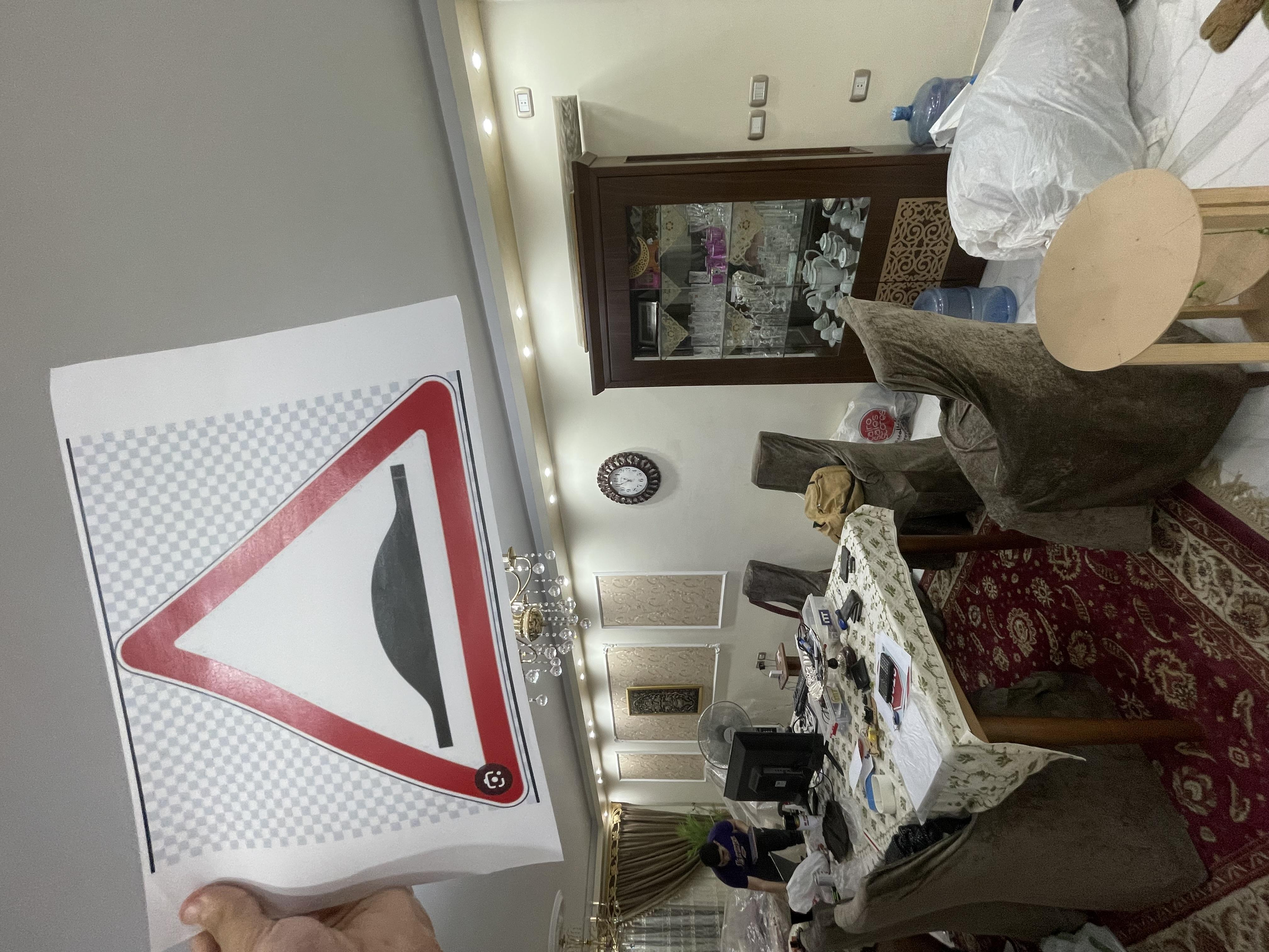Hump: (183, 81, 786, 400)
